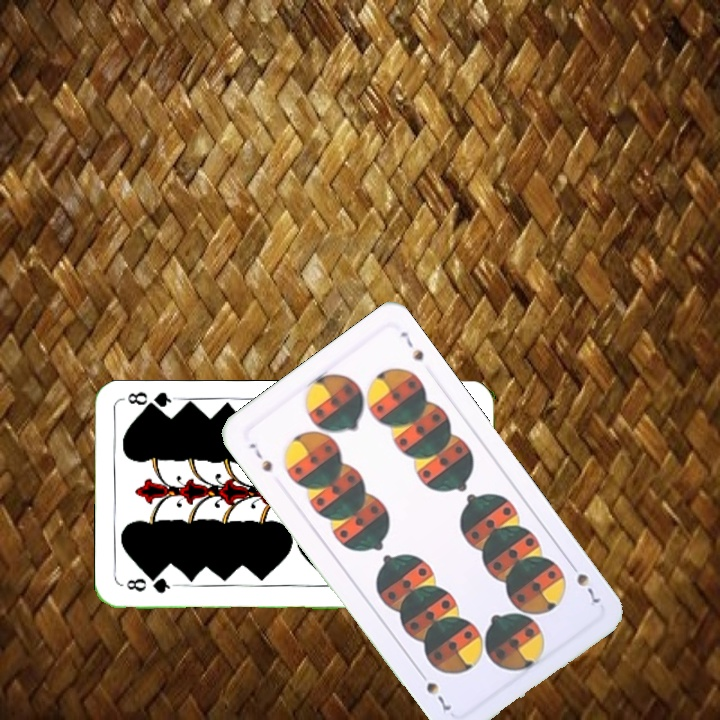G8: (122, 573, 178, 595)
S7: (565, 557, 603, 607), (245, 439, 275, 475)
